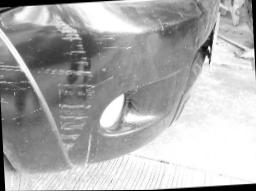Bumper: (36, 13, 170, 165)
